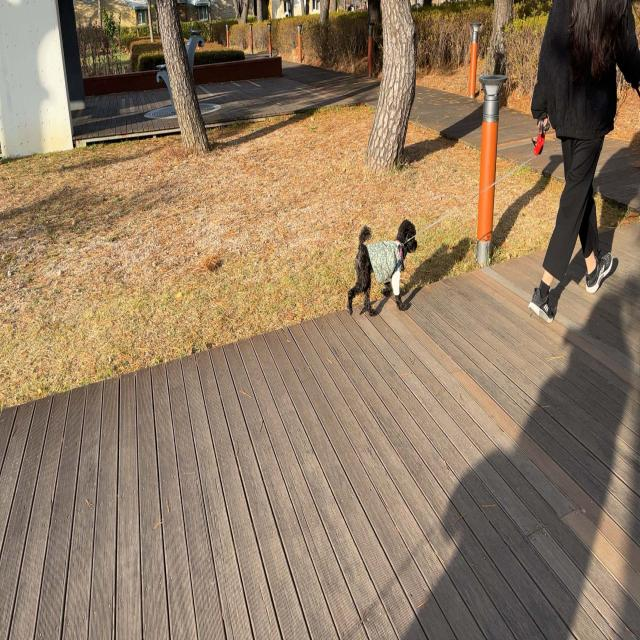Leashed_Dog: (348, 103, 568, 318)
